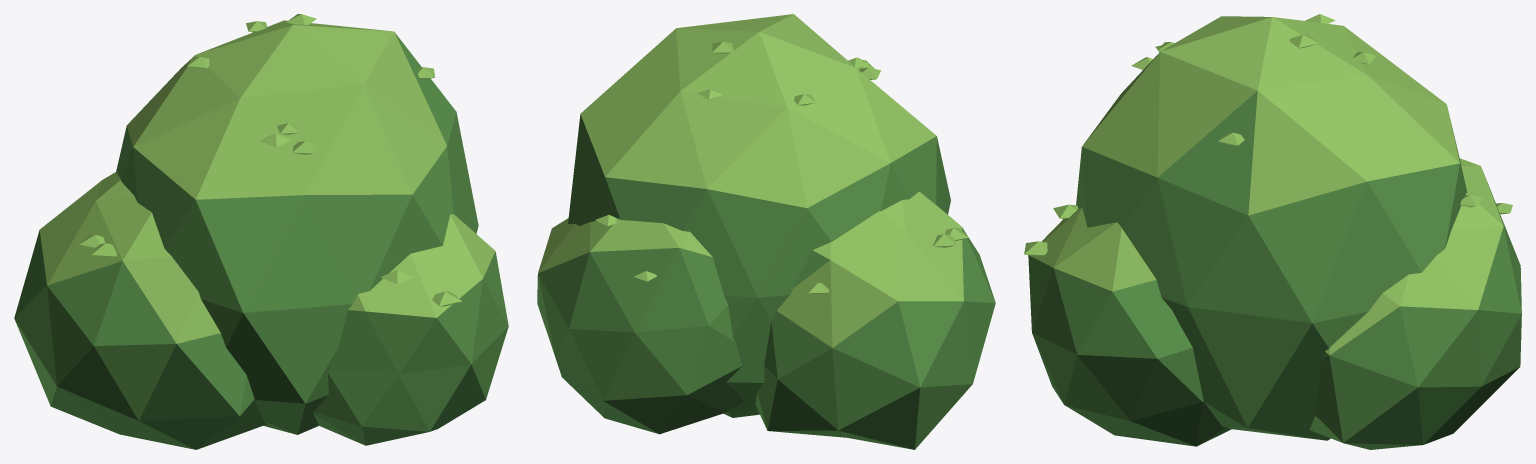
Rendered from SC_Nat_Bush_Round_L.gltf.
The picture shows the model from 3 angles, left to right: view 1: azimuth 30°, elevation 25°; view 2: azimuth 150°, elevation 25°; view 3: azimuth 270°, elevation 25°; orthographic projection. The views are drawn at different scales.
Parts seen in each view (by area): view 1: SC_Nat_Bush_Round_L; view 2: SC_Nat_Bush_Round_L; view 3: SC_Nat_Bush_Round_L.
Part boxes in pixels (left/top/right/bottom): SC_Nat_Bush_Round_L: left=14, top=14, right=508, bottom=449; SC_Nat_Bush_Round_L: left=537, top=14, right=995, bottom=449; SC_Nat_Bush_Round_L: left=1024, top=14, right=1521, bottom=449.
Bounding box in the file's own units: 1.48 × 1.27 × 1.5.
Materials: 1 (1 with a texture image).
